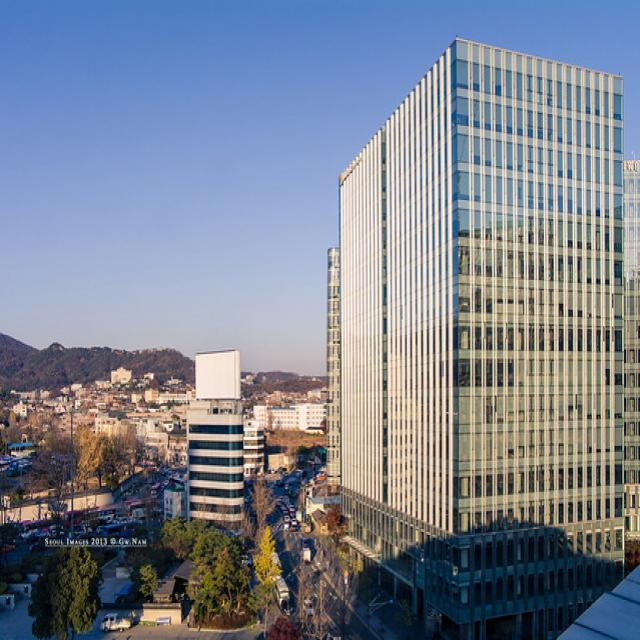Normal_building: (324, 24, 637, 610), (184, 346, 247, 564)
